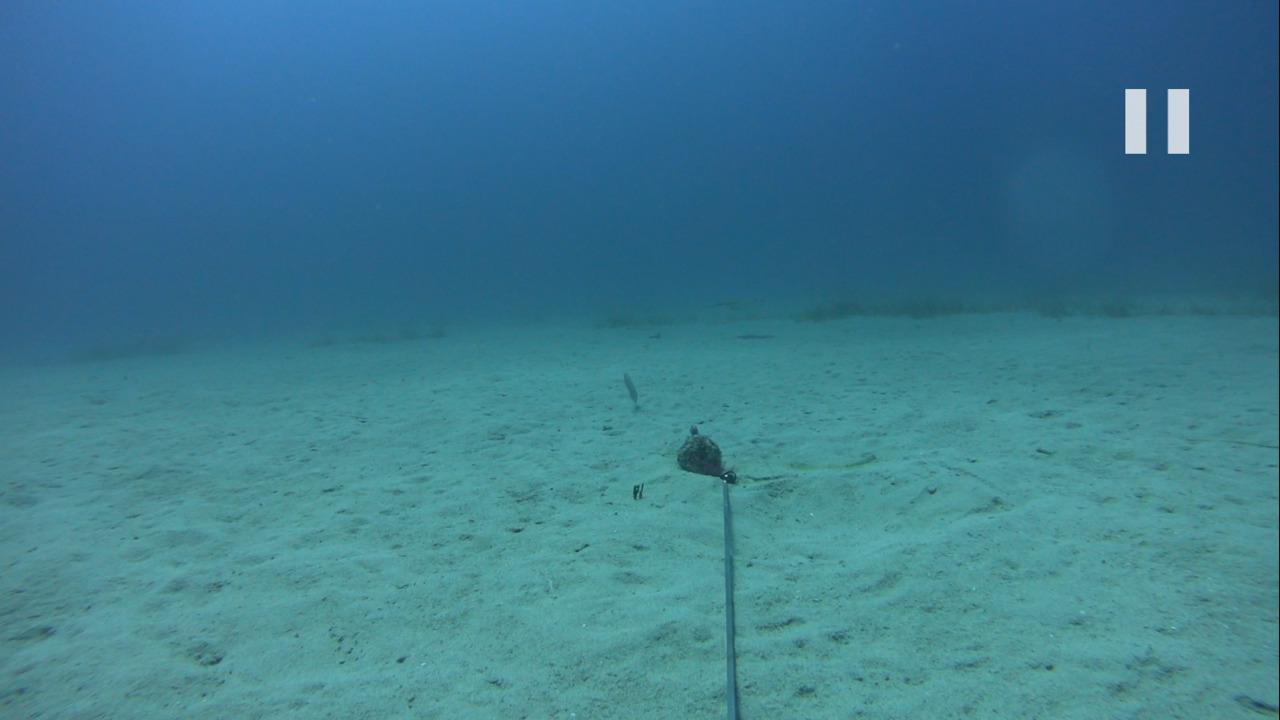raor: (613, 367, 648, 406)
